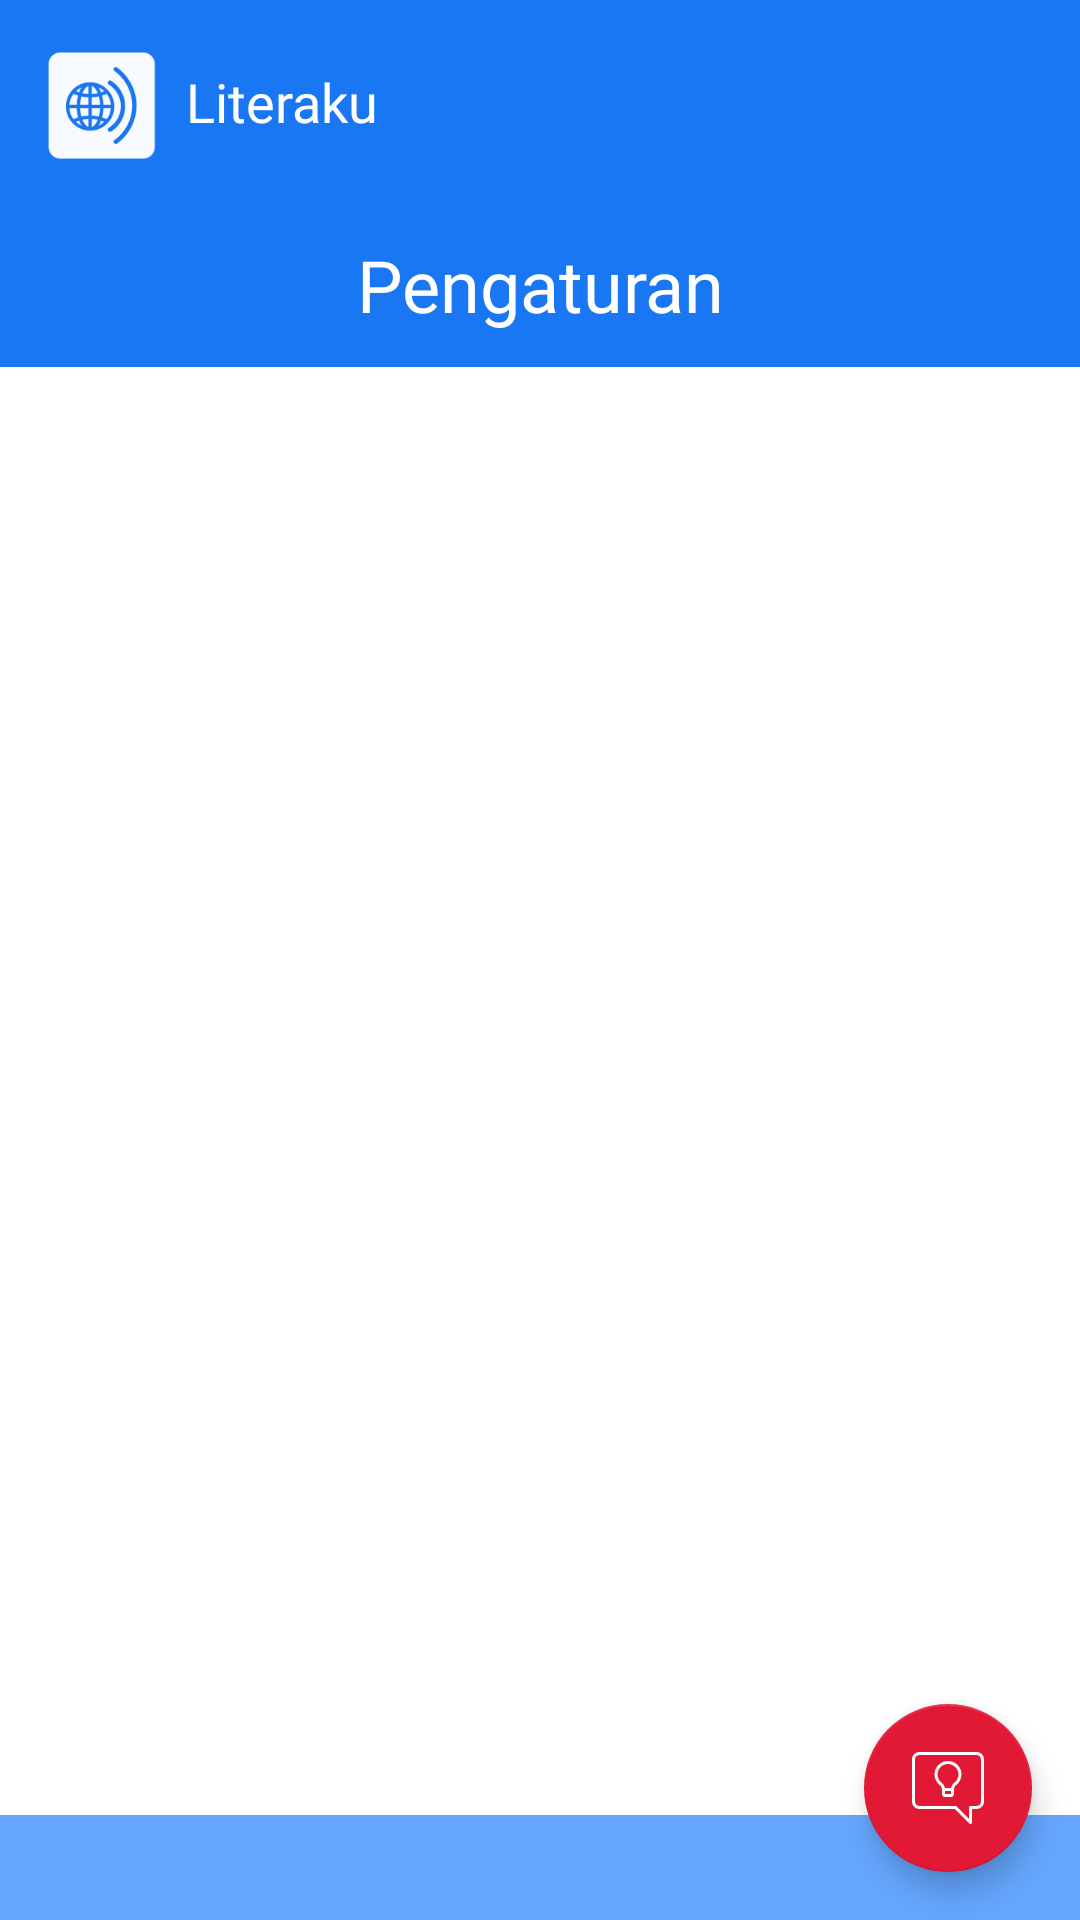

Named icons in this screenshot (1080 × 1920) and their centers, point (x, y):
ltk bulb: point (948, 1788)
